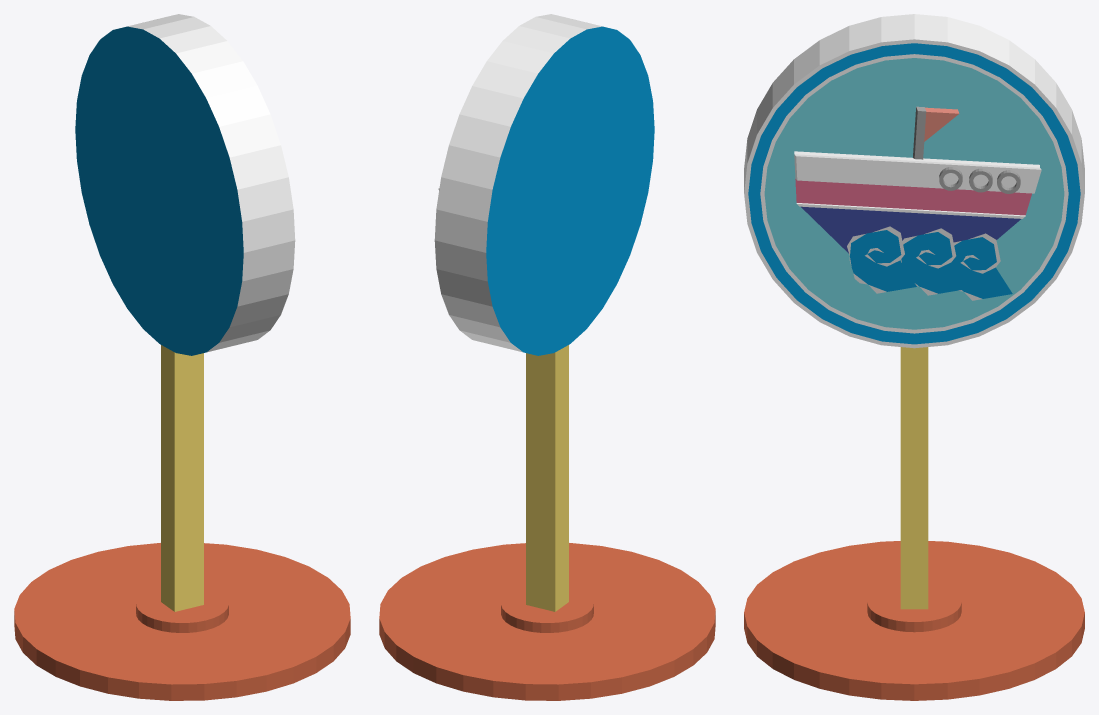
The model's file is Harbor.fbx.
The picture shows the model from 3 angles, left to right: view 1: azimuth 30°, elevation 25°; view 2: azimuth 150°, elevation 25°; view 3: azimuth 270°, elevation 25°; orthographic projection.
Visible parts, largest first — view 1: Circle, Cube.001; view 2: Circle, Cube.001; view 3: Circle, Cube.001, Circle.004, Plane.002.
Part boxes in pixels (x1,y1,x2,y2): Circle: (75,14,295,355); Cube.001: (14,345,350,700); Circle: (434,14,654,355); Cube.001: (379,345,715,700); Circle: (744,14,1084,348); Cube.001: (744,347,1084,700); Circle.004: (794,106,1041,253); Plane.002: (847,226,1012,300).
Bounding box in the file's own units: 200 × 391 × 200.
